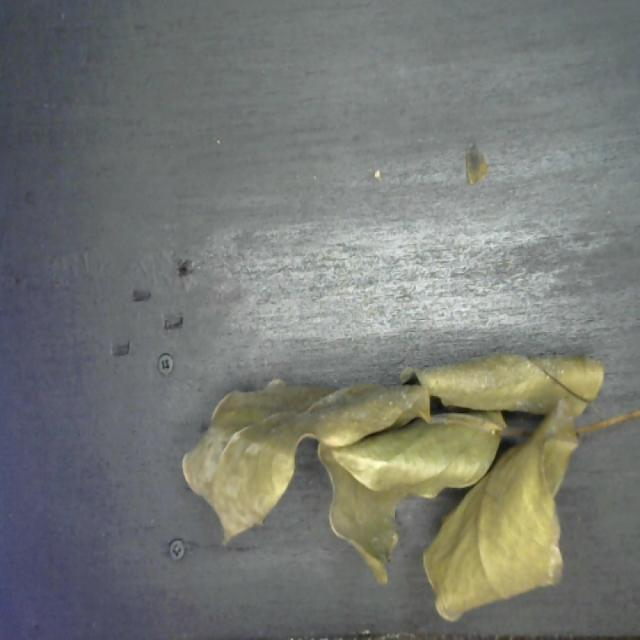biodegradable: (175, 347, 610, 625)
